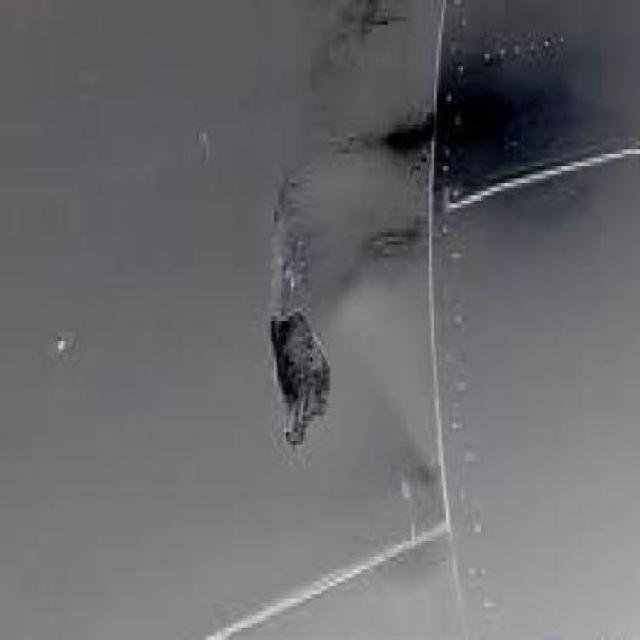dent: (270, 149, 339, 443)
